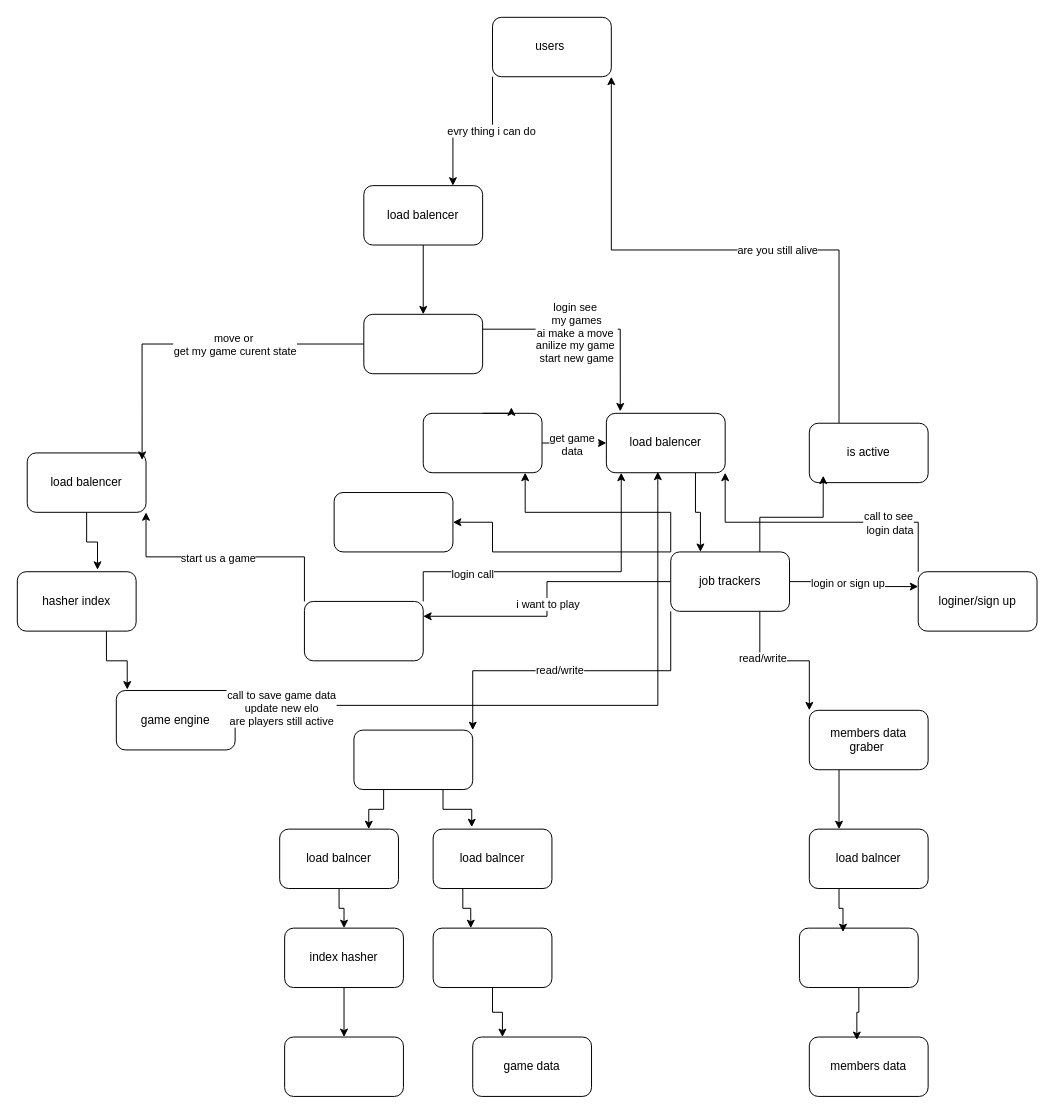
Some shapes in this 1054 by 1114 pixel diagram are drawn without their labels. The centre of each missing label's shape, as x and y in pixels:
AI: point 393,522
board to gid: point 343,1066
game anilizer: point 482,442
game data manger: point 413,759
gateway: point 423,343
hasher: point 858,957
matchmaker: point 363,630
rang hasher: point 492,957
